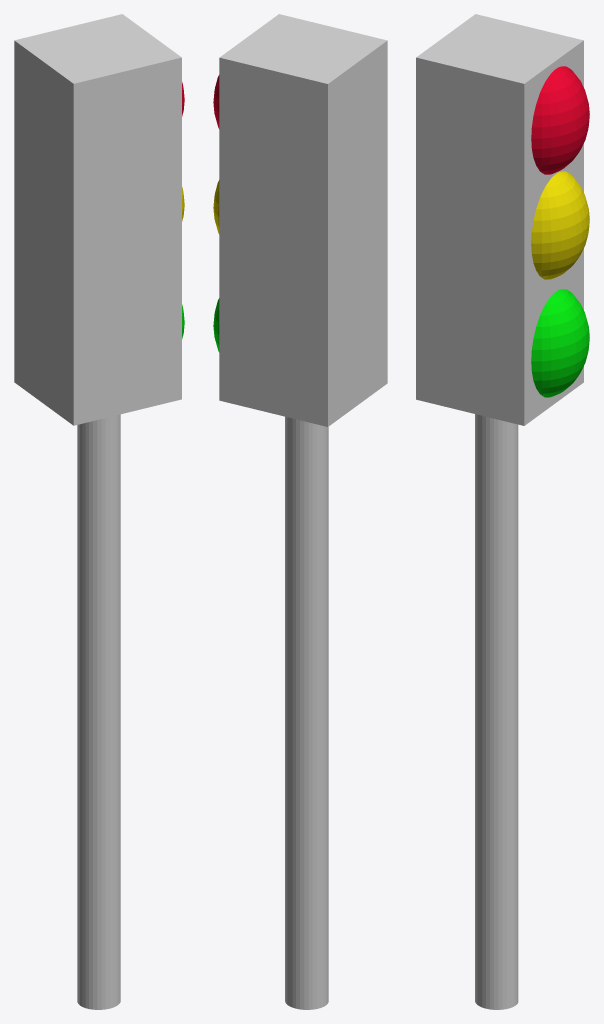
File: semaforo_animado.glb
The picture shows the model from 3 angles, left to right: view 1: azimuth 30°, elevation 25°; view 2: azimuth 150°, elevation 25°; view 3: azimuth 330°, elevation 25°; orthographic projection.
Parts seen in each view (by area): view 1: 0-Cabeza semaforo, Tronco semáforo; view 2: 0-Cabeza semaforo, Tronco semáforo; view 3: 0-Cabeza semaforo, Tronco semáforo, 2-Rojo, 4-Amarillo, 6-Verde.
Boxes of the visible parts, x1,y1,x2,y2 form: 0-Cabeza semaforo: [14, 14, 181, 425]; Tronco semáforo: [77, 414, 120, 1009]; 0-Cabeza semaforo: [219, 14, 387, 426]; Tronco semáforo: [285, 416, 328, 1009]; 0-Cabeza semaforo: [416, 14, 583, 425]; Tronco semáforo: [475, 414, 518, 1009]; 2-Rojo: [531, 66, 589, 174]; 4-Amarillo: [531, 171, 589, 279]; 6-Verde: [531, 289, 589, 397].
Size of the model in its own units: 2.55 by 17.2 by 1.95.
